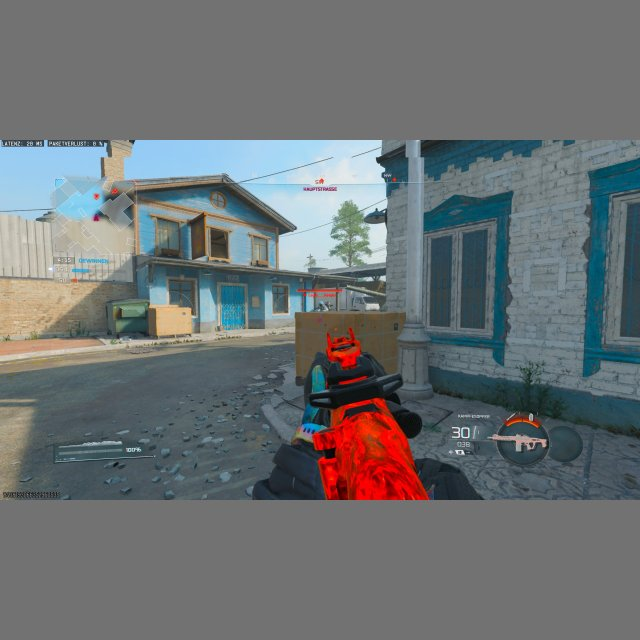player: (316, 300, 330, 310)
